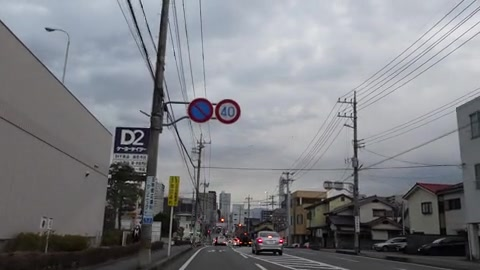traffic_sign: (214, 95, 246, 125), (187, 95, 213, 124)
